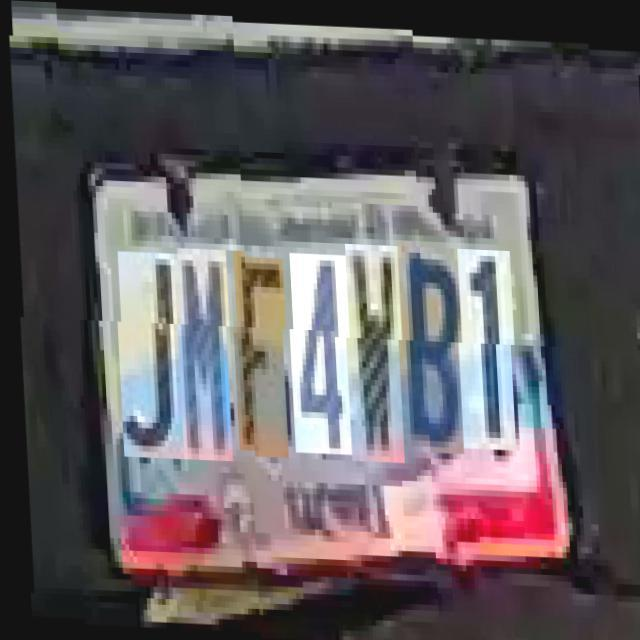1: (451, 233, 512, 434)
4: (283, 244, 347, 446)
B: (391, 231, 458, 438)
F: (227, 248, 284, 450)
J: (111, 250, 179, 458)
M: (171, 246, 228, 459)
W: (338, 234, 399, 453)
